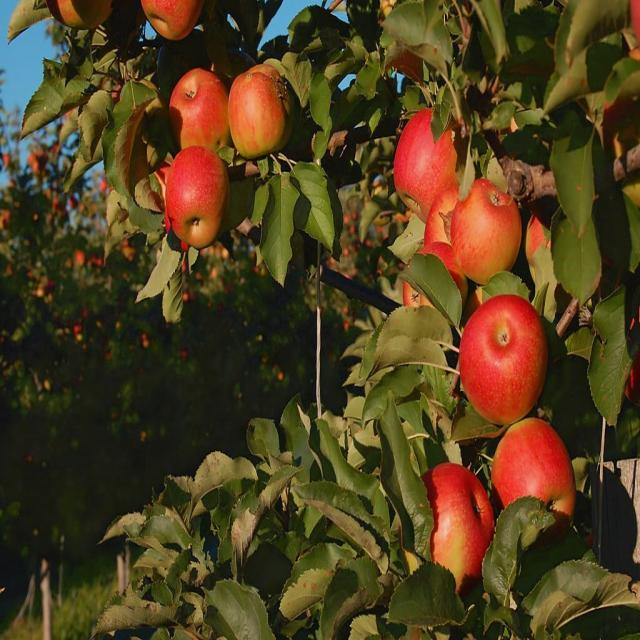Red Apple: (408, 458, 499, 582), (497, 418, 578, 533), (464, 303, 542, 410), (397, 108, 471, 215), (456, 180, 520, 281), (165, 149, 227, 241), (396, 245, 462, 326), (173, 78, 232, 157), (232, 64, 282, 154), (136, 1, 208, 41), (421, 185, 461, 249), (526, 210, 561, 270), (47, 1, 113, 31), (619, 328, 640, 401), (628, 1, 640, 50), (28, 154, 46, 171), (3, 153, 14, 170), (1, 210, 12, 225), (76, 251, 86, 265), (92, 258, 104, 268), (183, 294, 193, 304), (69, 198, 78, 209), (141, 336, 151, 345), (75, 325, 83, 336), (54, 202, 63, 211), (101, 182, 109, 192), (343, 320, 350, 331), (47, 281, 56, 289), (54, 146, 61, 156), (345, 214, 351, 225), (181, 350, 189, 357), (369, 239, 374, 250), (345, 247, 350, 257), (379, 225, 385, 233)
